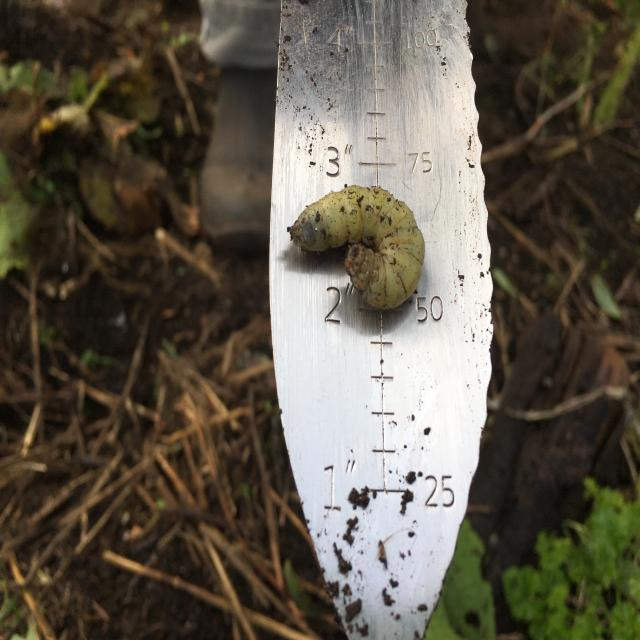Cutworm: (282, 192, 428, 320)
